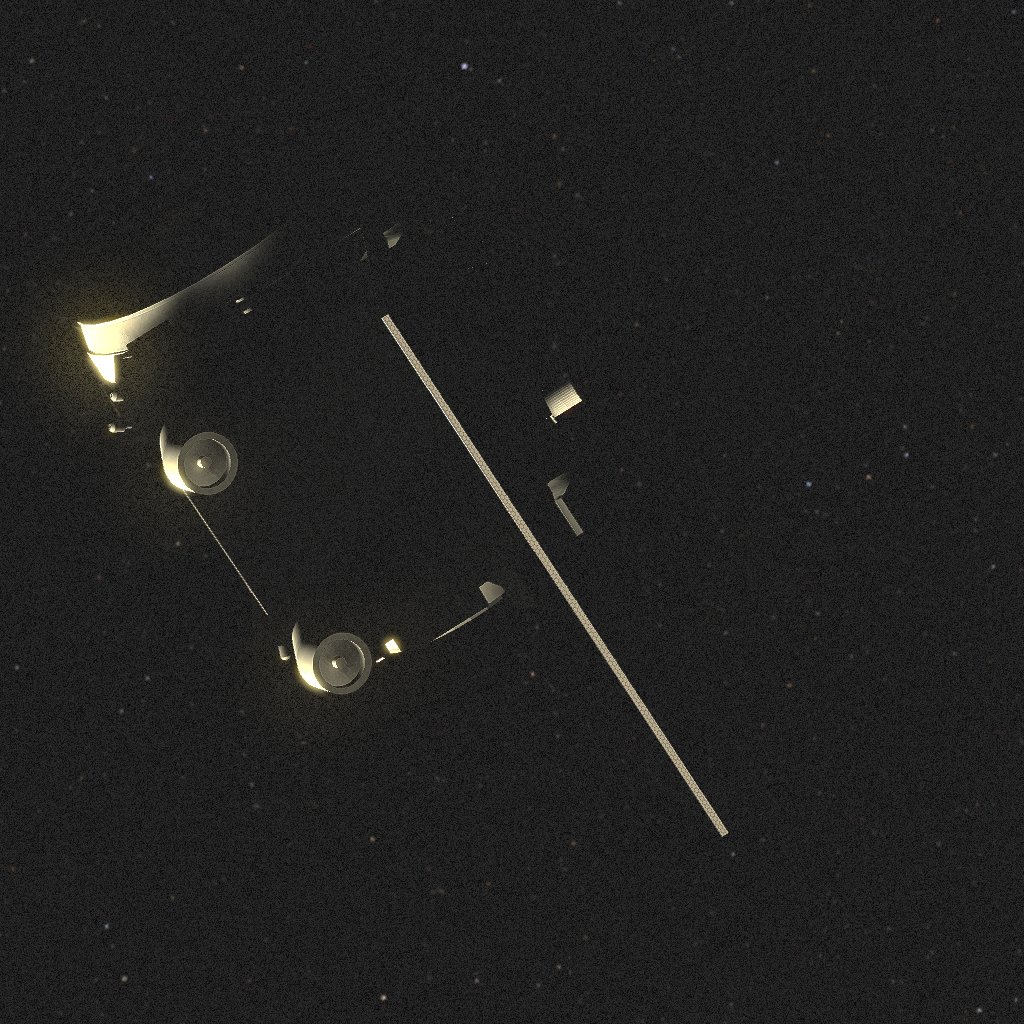proba_3_csc: (49, 168, 741, 820)
